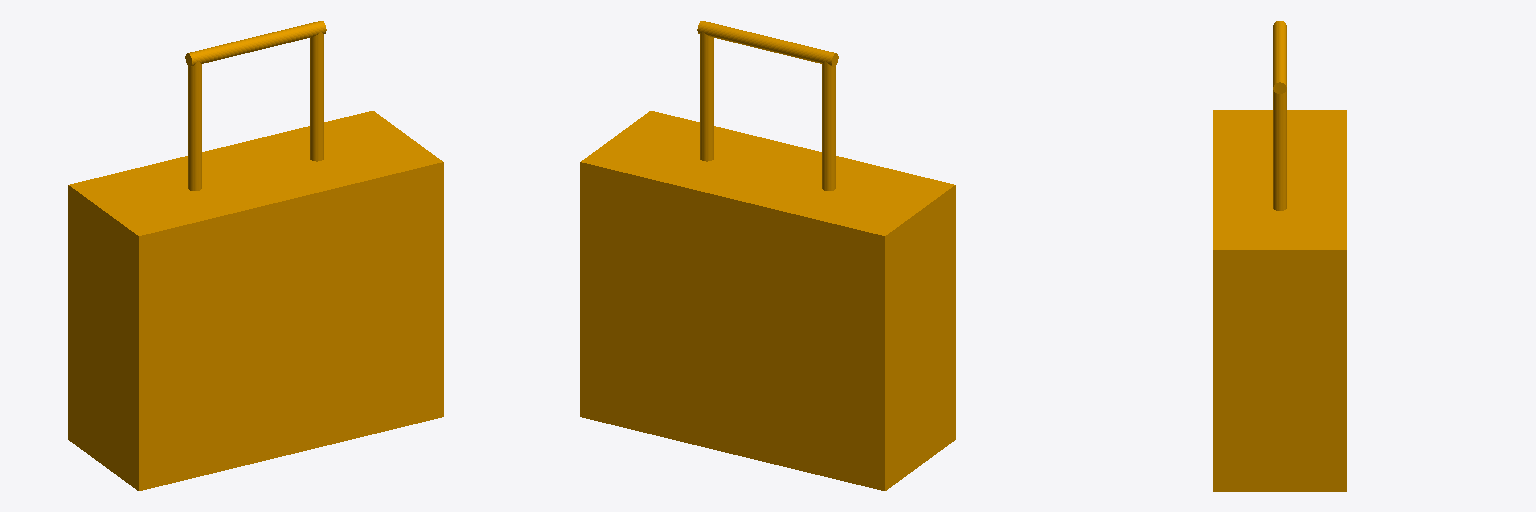
The robot description file, URDF, robot "bag":
<?xml version="1.0"?>
<!-- Shopping-bag stand-in for the HCR bag-transfer task. Generated by sim/step4_bag/make_bag.py -->
<robot name="bag">
  <link name="bag">
    <inertial>
      <origin xyz="0 0 0.12" rpy="0 0 0"/>
      <mass value="1.0"/>
      <inertia ixx="0.006" ixy="0" ixz="0" iyy="0.0123" iyz="0" izz="0.0087"/>
    </inertial>
    <visual><origin xyz="0 0 0.12"/><geometry><box size="0.3 0.12 0.24"/></geometry></visual>
    <collision><origin xyz="0 0 0.12"/><geometry><box size="0.3 0.12 0.24"/></geometry></collision>
    <collision><origin xyz="-0.06 0 0.301"/><geometry><cylinder radius="0.006" length="0.122"/></geometry></collision>
    <collision><origin xyz="0.06 0 0.301"/><geometry><cylinder radius="0.006" length="0.122"/></geometry></collision>
    <collision><origin xyz="0 0 0.362" rpy="0 1.5707963 0"/><geometry><cylinder radius="0.006" length="0.132"/></geometry></collision>
    <visual><origin xyz="-0.06 0 0.301"/><geometry><cylinder radius="0.006" length="0.122"/></geometry></visual>
    <visual><origin xyz="0.06 0 0.301"/><geometry><cylinder radius="0.006" length="0.122"/></geometry></visual>
    <visual><origin xyz="0 0 0.362" rpy="0 1.5707963 0"/><geometry><cylinder radius="0.006" length="0.132"/></geometry></visual>
  </link>
</robot>

--- Facts derived from the render (not from the file) ---
Views: 3 orthographic renders of the robot side by side, from view 1: azimuth 30°, elevation 25°; view 2: azimuth 150°, elevation 25°; view 3: azimuth 270°, elevation 25°.
Robot: bag — 1 links, 0 joints (none); root link bag; default pose: every joint at zero.
Links seen in each view (by area): view 1: bag; view 2: bag; view 3: bag.
Boxes of the visible links, bbox=[...] form: bag: bbox=[68, 21, 443, 490]; bag: bbox=[580, 21, 955, 490]; bag: bbox=[1213, 21, 1346, 491].
Bounding box of the posed robot: 0.3 × 0.12 × 0.368 m (x, y, z).
Geometry: primitives only (box / cylinder / sphere), no mesh files.
